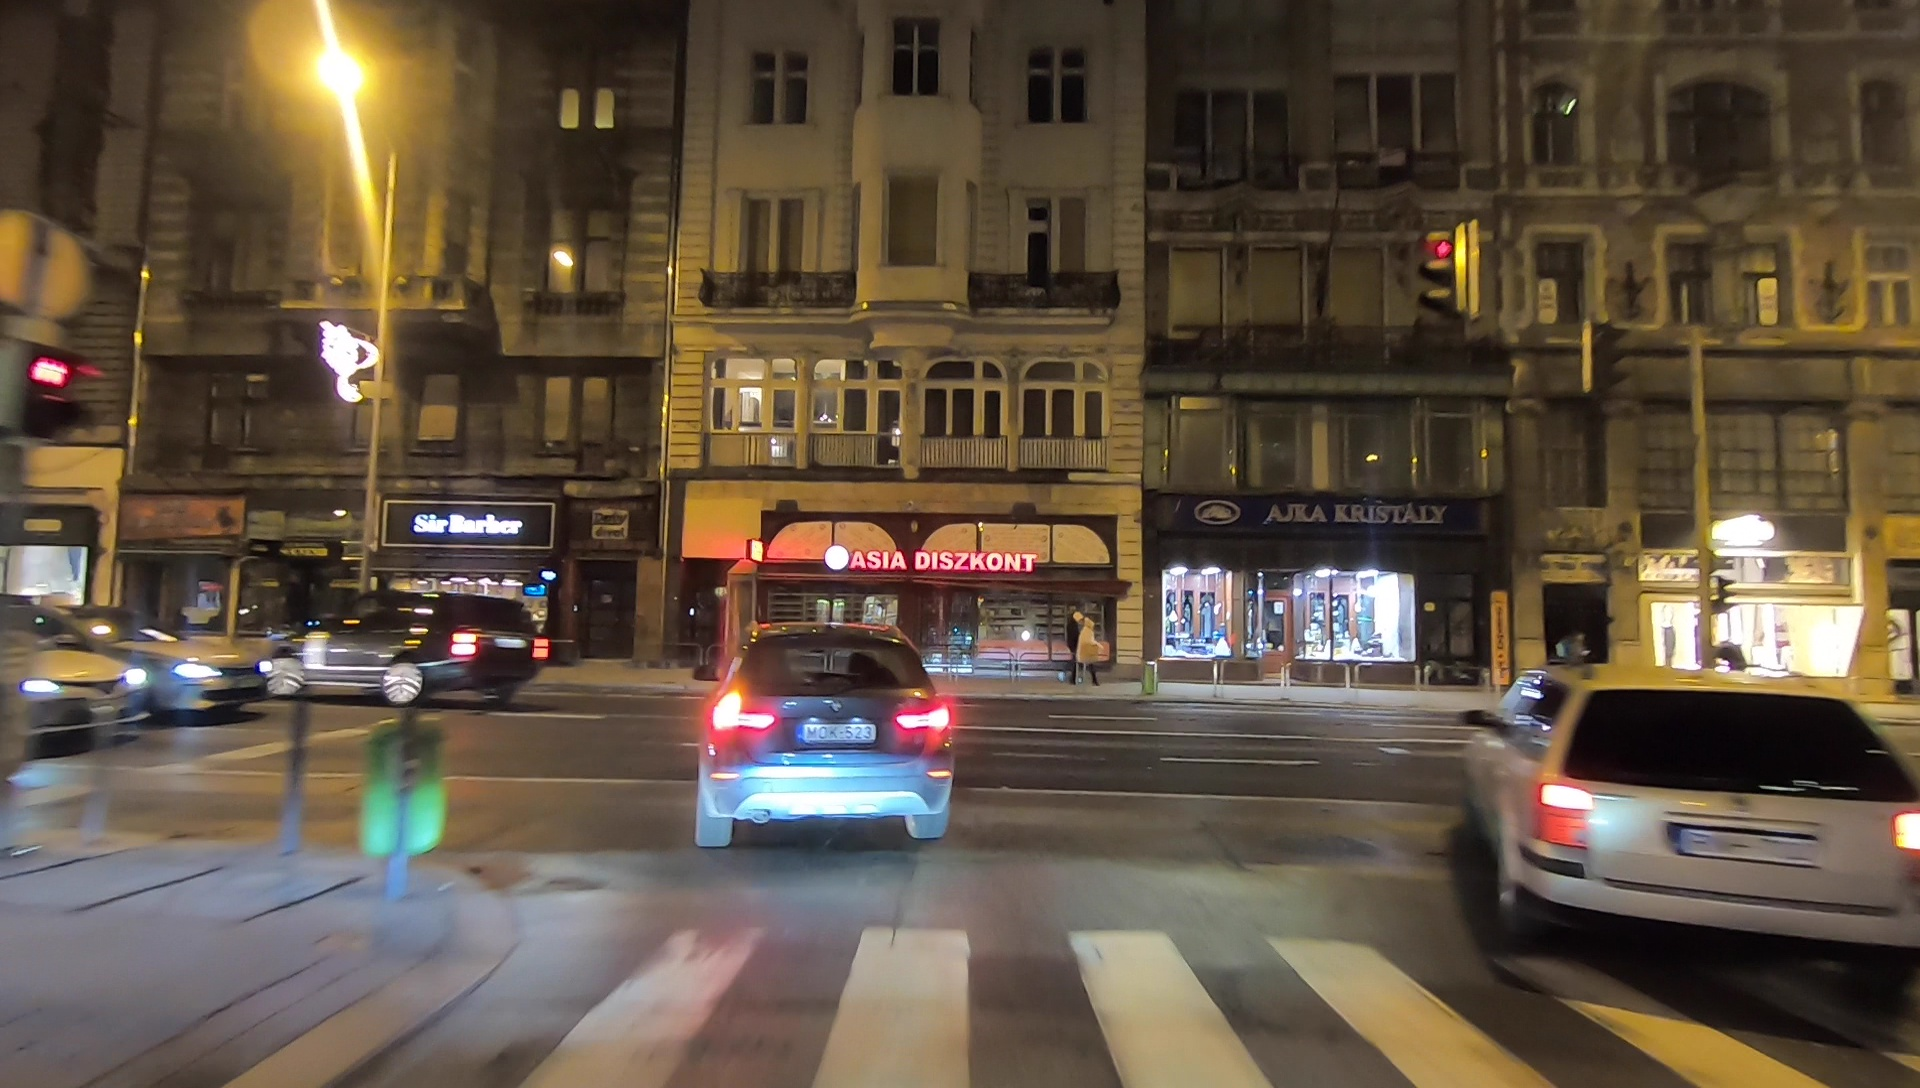person: (1065, 609, 1098, 684), (1073, 619, 1100, 683)
